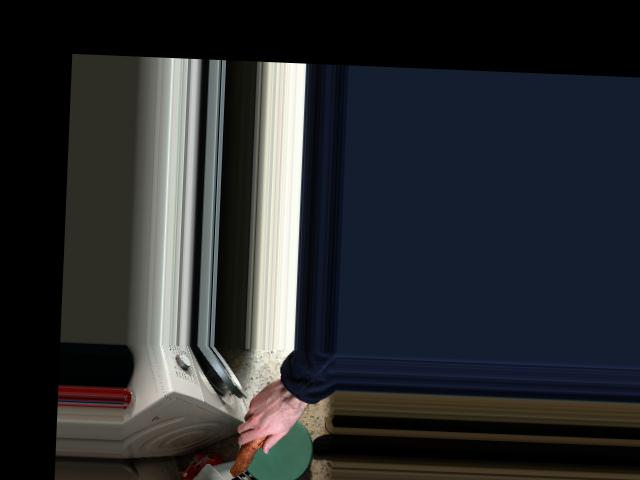sweet_potato: (229, 401, 287, 475)
